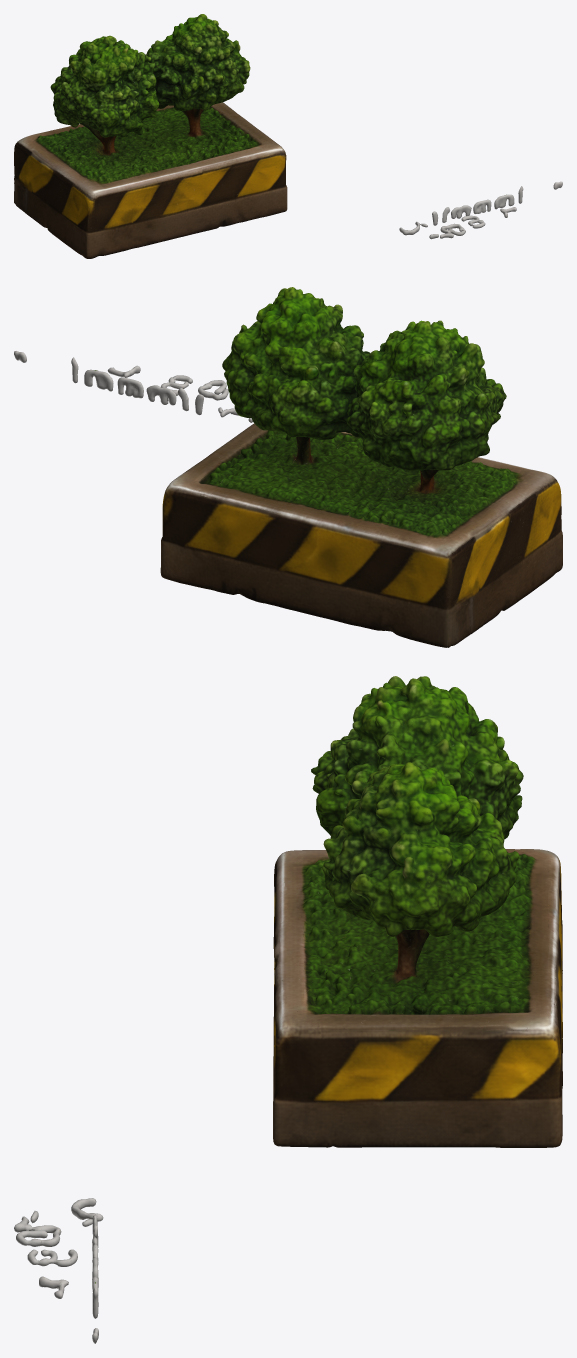
Rendered from street_planter_barrier.glb.
3 views of the same model, one above another, from view 1: azimuth 30°, elevation 25°; view 2: azimuth 150°, elevation 25°; view 3: azimuth 270°, elevation 25° (orthographic). The views are drawn at different scales.
Parts seen in each view (by area): view 1: world; view 2: world; view 3: world.
Part boxes in pixels (<box>): world: <box>14,14,562,258</box>; world: <box>14,287,562,647</box>; world: <box>14,676,562,1343</box>.
Size of the model in its own units: 1 by 0.4152 by 0.5976.
Materials: 1 (1 with a texture image).
